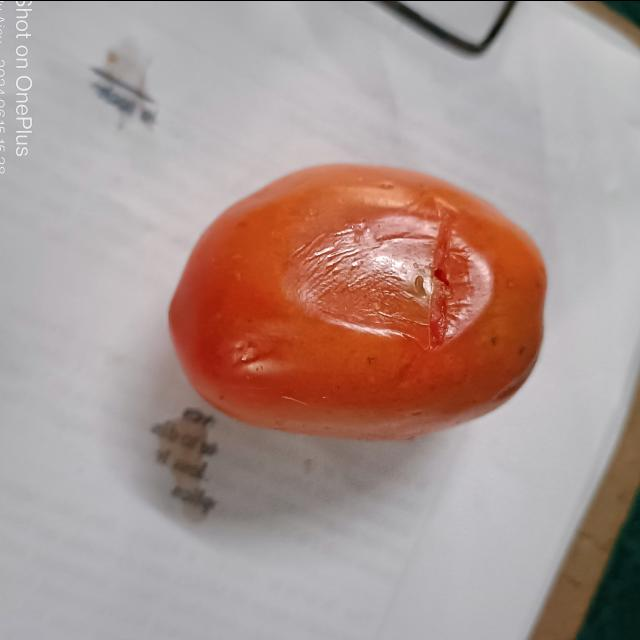Botrytis: (296, 206, 490, 338)
